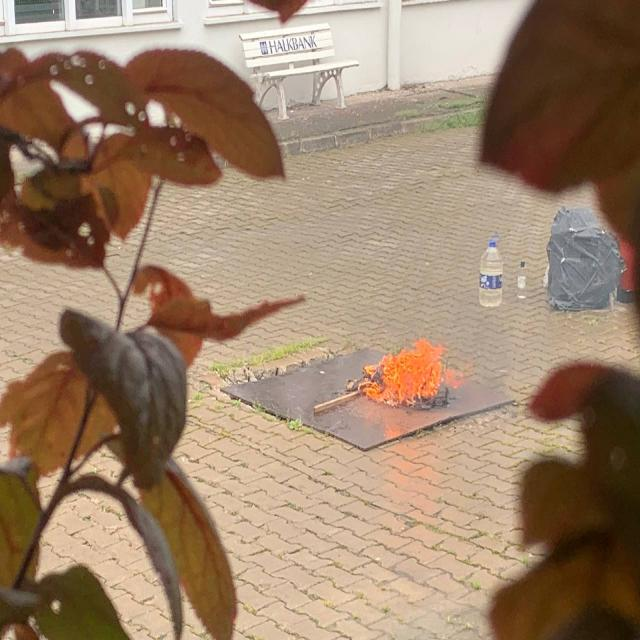fire: (357, 330, 461, 414)
